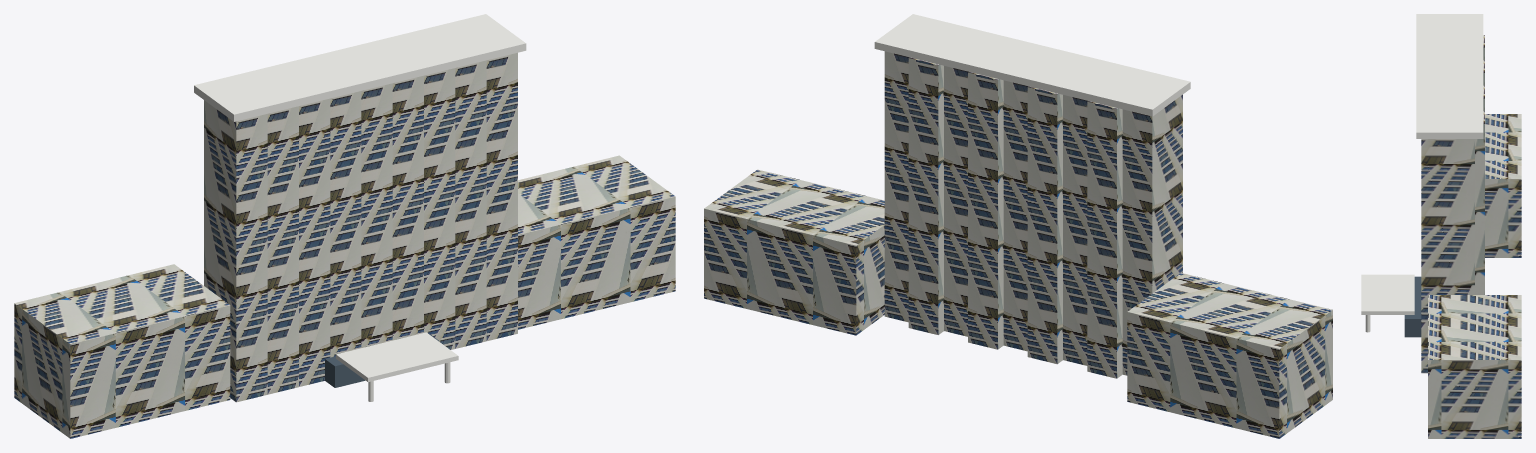
The model's file is eko_hotel.glb.
3 views of the same model, side by side, from view 1: azimuth 30°, elevation 25°; view 2: azimuth 150°, elevation 25°; view 3: azimuth 270°, elevation 25° (orthographic). The views are drawn at different scales.
Parts seen in each view (by area): view 1: wing-1, wing1, bay0, roof, bay7, bay8, bay1, bay2, bay6, bay3, bay4, bay5 (+2 smaller); view 2: wing-1, wing1, roof, bay0, bay3, bay7, bay5, bay1, bay4, bay8, bay2, bay6; view 3: wing1, bay8, roof, wing-1, canopy, bay7, lobby.
Part boxes in pixels (x1,y1,x2,y2): wing-1: [14, 264, 230, 438]; wing1: [518, 155, 675, 329]; bay0: [204, 100, 267, 402]; roof: [194, 14, 526, 121]; bay7: [455, 60, 486, 348]; bay8: [486, 52, 517, 340]; bay1: [267, 106, 298, 394]; bay2: [299, 98, 330, 386]; bay6: [424, 68, 455, 349]; bay3: [330, 91, 361, 357]; bay4: [361, 83, 392, 347]; bay5: [392, 75, 423, 340]; wing-1: [1127, 273, 1332, 438]; wing1: [704, 169, 884, 335]; roof: [874, 14, 1190, 116]; bay0: [1122, 94, 1182, 375]; bay3: [1027, 86, 1062, 364]; bay7: [908, 57, 943, 334]; bay5: [968, 72, 1003, 349]; bay1: [1087, 101, 1122, 378]; bay4: [1003, 80, 1027, 351]; bay8: [884, 51, 908, 322]; bay2: [1063, 95, 1087, 365]; bay6: [944, 66, 968, 336]; wing1: [1428, 295, 1521, 438]; bay8: [1421, 139, 1474, 373]; roof: [1416, 14, 1483, 138]; wing-1: [1485, 114, 1521, 257]; canopy: [1361, 274, 1414, 314]; bay7: [1475, 111, 1484, 294]; lobby: [1404, 276, 1421, 337].
Bounding box in the file's own units: 174 × 80 × 48.
Materials: 3 (1 with a texture image).
